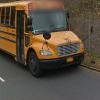Bus: (1, 1, 88, 76)
